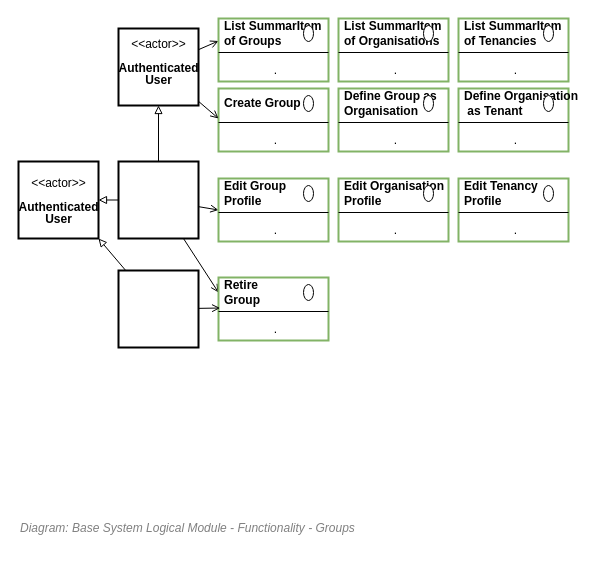
This 595x565 diagram has some shape labels left out. Here are the shapes that lost their labels. From the top down, the centre of each, then its label:
[158,199]: <<actor>> Authenticated User (Group Accountable)
[158,308]: <<actor>> Daemon
